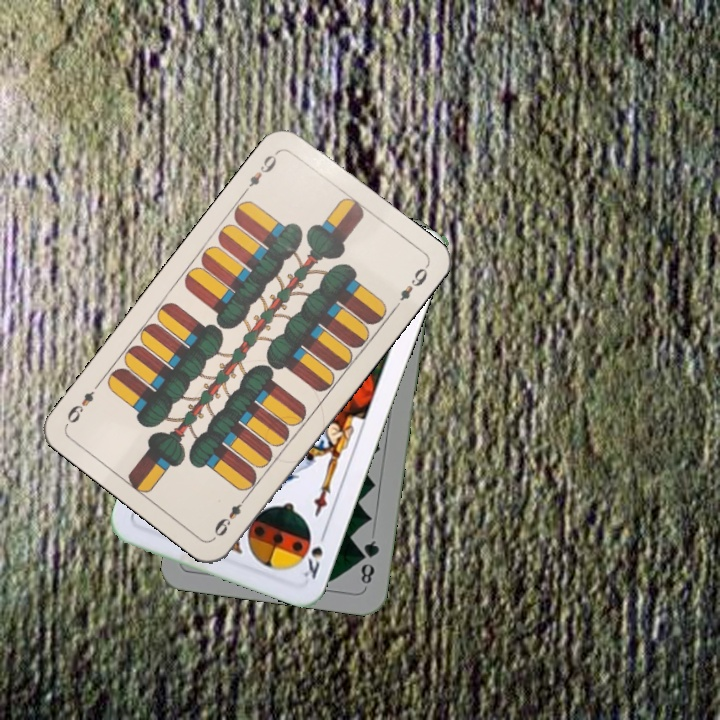E9: (209, 491, 251, 541), (239, 147, 281, 197)
G8: (356, 536, 382, 587)
SK: (298, 526, 329, 582)
